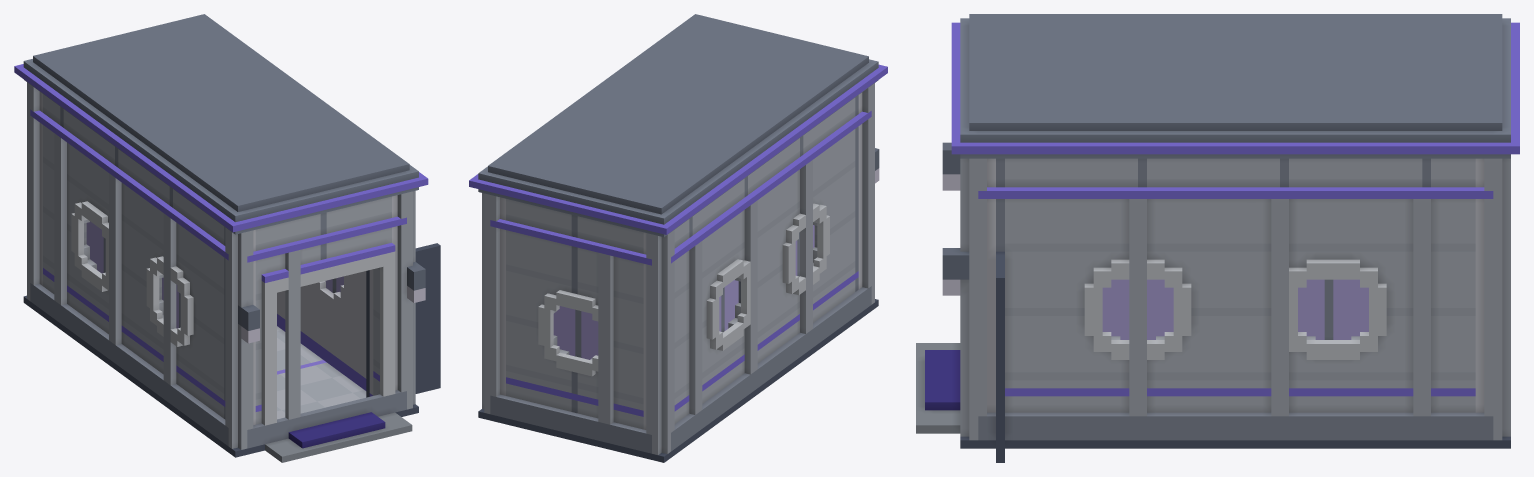
Rendered from control_e5_l2.glb.
The picture shows the model from 3 angles, left to right: view 1: azimuth 30°, elevation 25°; view 2: azimuth 150°, elevation 25°; view 3: azimuth 270°, elevation 25°; orthographic projection. The views are drawn at different scales.
Visible parts, largest first — view 1: CutRoof, Base, CutNX, CutPZ, CutNZ, CutPX; view 2: CutRoof, CutNZ, CutNX, Base, CutPZ; view 3: CutPX, CutRoof, Base, CutPZ, CutNZ.
Part boxes in pixels (left/top/right/bottom): CutRoof: left=14, top=14, right=428, bottom=234; Base: left=23, top=243, right=440, bottom=462; CutNX: left=30, top=94, right=228, bottom=381; CutPZ: left=225, top=191, right=440, bottom=394; CutNZ: left=27, top=82, right=42, bottom=248; CutPX: left=300, top=271, right=366, bottom=334; CutRoof: left=469, top=14, right=887, bottom=237; CutNZ: left=482, top=193, right=674, bottom=398; CutNX: left=671, top=95, right=871, bottom=386; Base: left=478, top=246, right=878, bottom=462; CutPZ: left=858, top=83, right=879, bottom=251; CutPX: left=978, top=158, right=1493, bottom=367; CutRoof: left=951, top=14, right=1519, bottom=158; Base: left=916, top=343, right=1510, bottom=462; CutPZ: left=942, top=142, right=1004, bottom=390; CutNZ: left=1475, top=158, right=1510, bottom=367.
Bounding box in the file's own units: 3.8 × 4 × 6.8.
